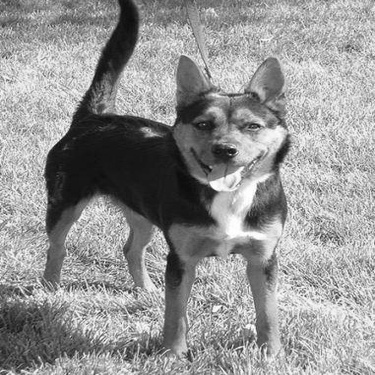dog: (35, 1, 296, 363)
